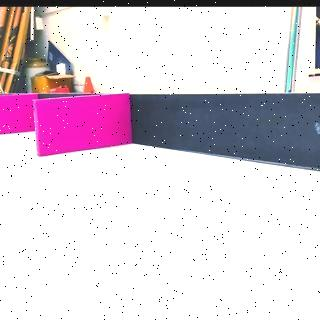xparking: (36, 100, 131, 147), (2, 95, 31, 132)
